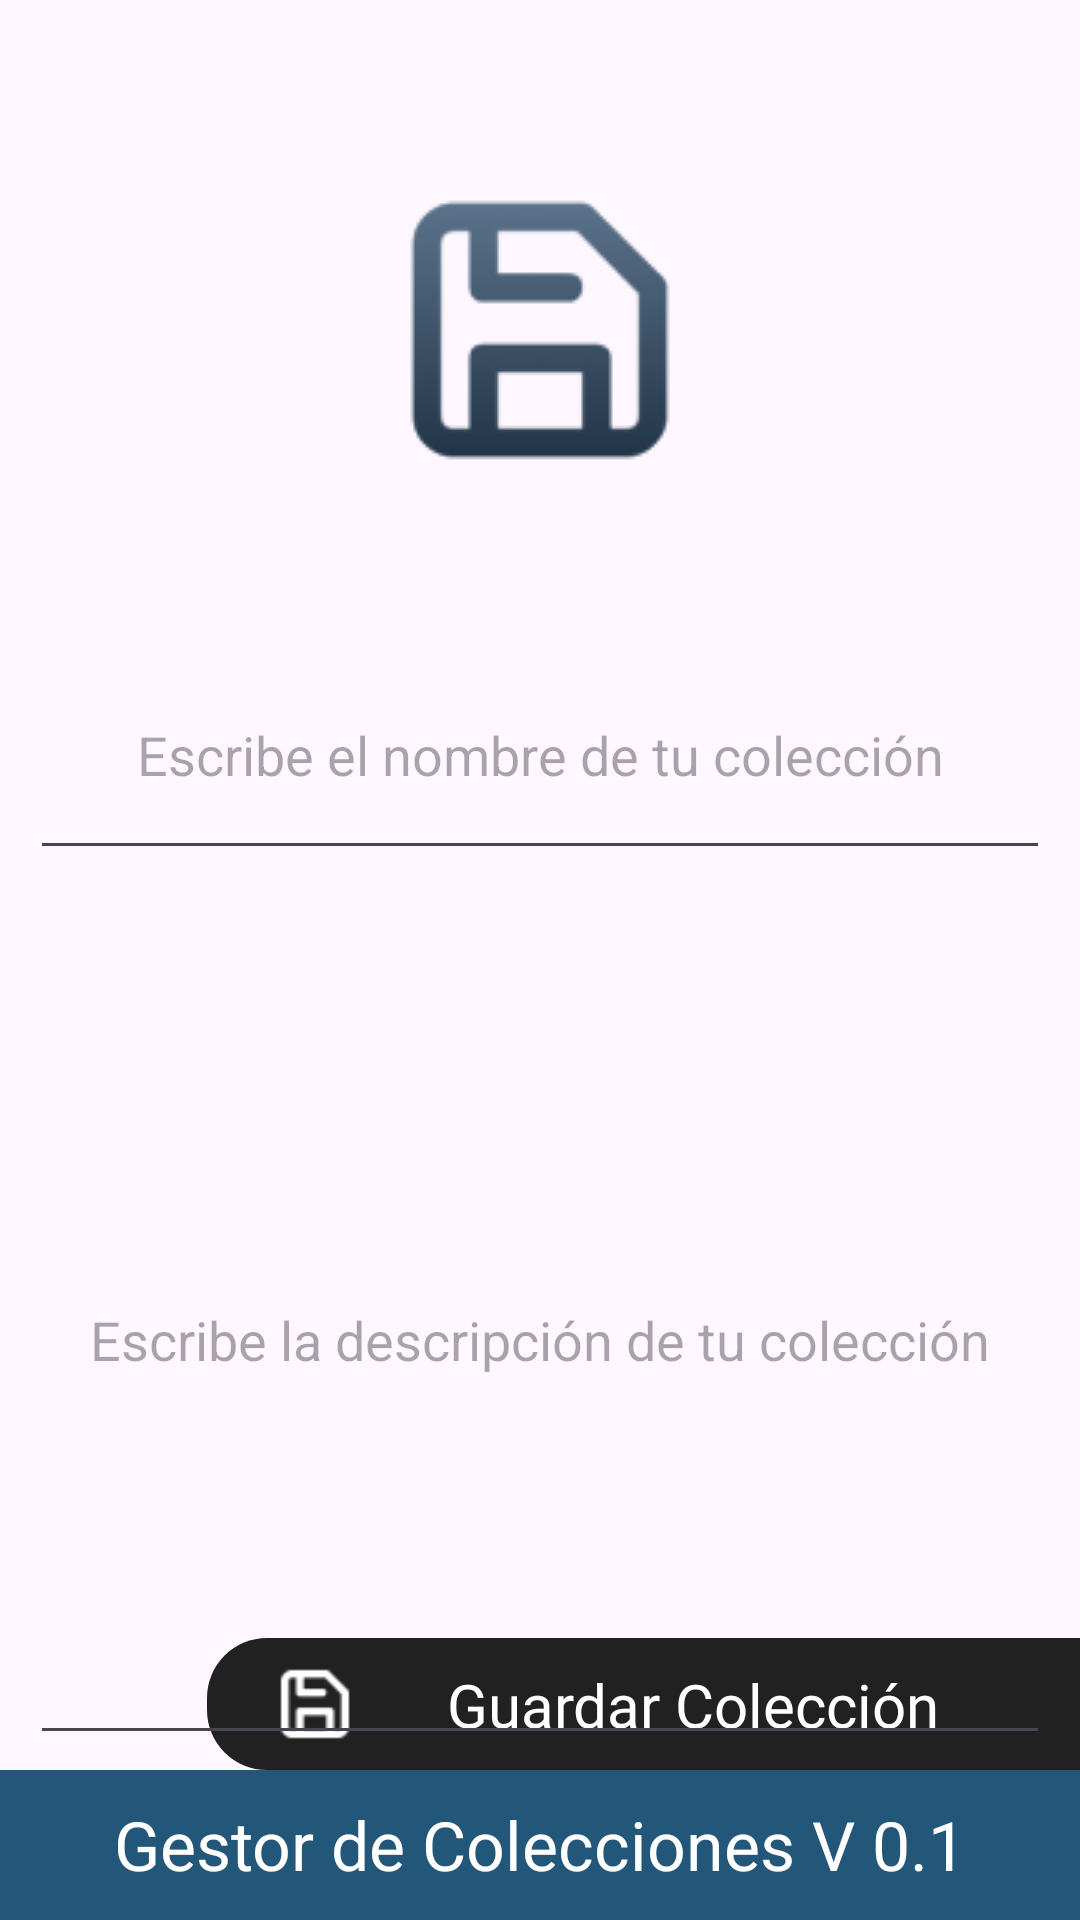

Screen size 1080x1920. Icon name, then its box in pixels as box(x1, y1, x2, y2):
guardar: box(410, 201, 669, 460)
